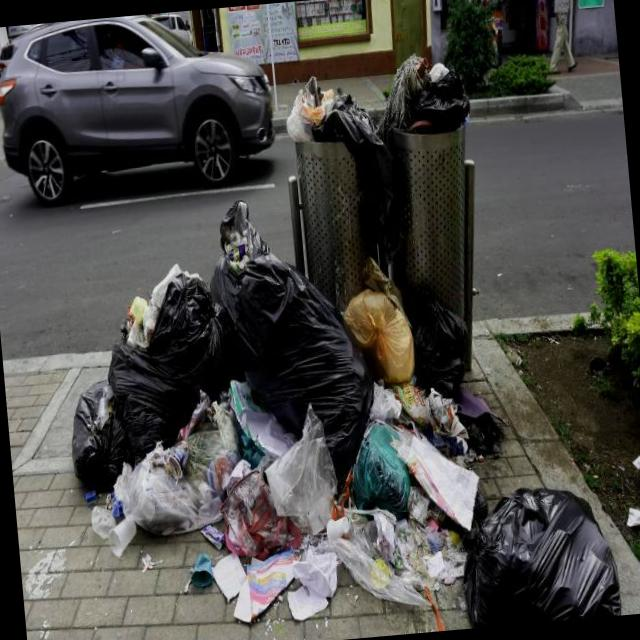high trash: (73, 202, 619, 627)
